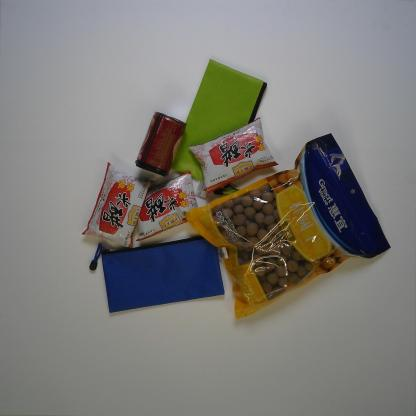Canned Food: (133, 109, 188, 179)
Dried Food: (180, 131, 393, 321)
Seasoner: (186, 116, 279, 195), (80, 160, 156, 250), (134, 170, 203, 242)
Stationery: (169, 56, 269, 194), (89, 228, 224, 315)
